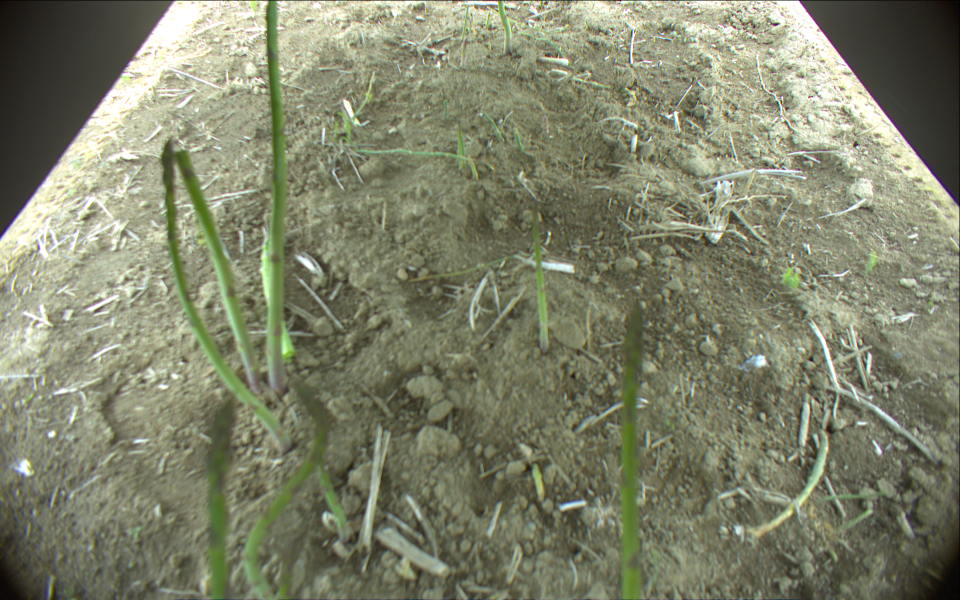aspa: (162, 137, 293, 453), (173, 150, 260, 396), (245, 379, 329, 600), (260, 1, 285, 389), (619, 299, 645, 600), (206, 395, 233, 600), (260, 215, 296, 360), (352, 147, 479, 176), (530, 198, 550, 355), (319, 463, 352, 546), (497, 1, 513, 43), (462, 5, 471, 33), (461, 35, 468, 67), (485, 9, 492, 29)
